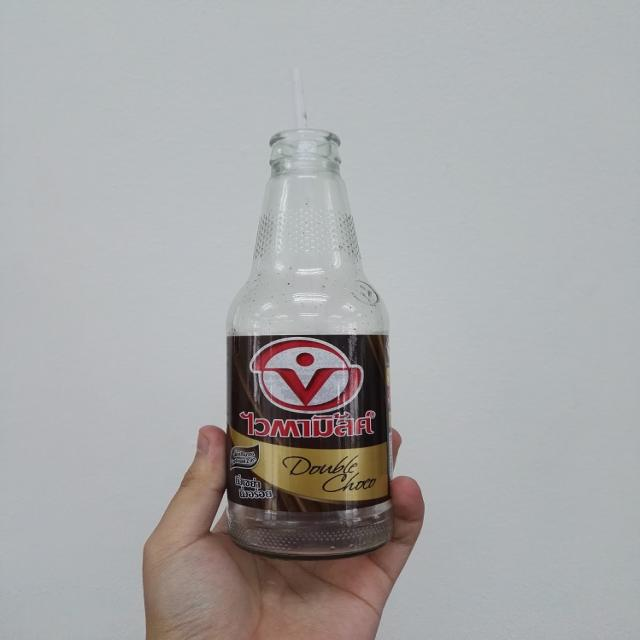glass-bottle: (201, 113, 436, 577)
